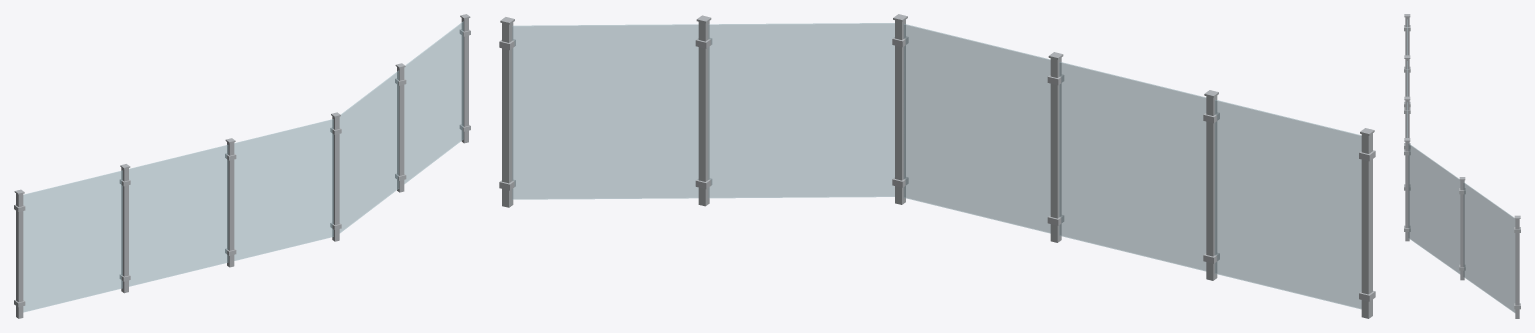
3 renders of one model, left to right at view 1: azimuth 30°, elevation 25°; view 2: azimuth 150°, elevation 25°; view 3: azimuth 270°, elevation 25°, orthographic. The views are drawn at different scales.
Visible parts, largest first — view 1: presentation (×11), climate.wind_screen; view 2: presentation (×11), climate.wind_screen; view 3: presentation (×8), climate.wind_screen (×2).
Part boxes in pixels (x1,y1,x2,y2): presentation (×11): (16,15,468,318); climate.wind_screen: (14,29,470,307); presentation (×11): (502,15,1372,318); climate.wind_screen: (499,36,1375,301); presentation (×8): (1405,14,1519,318); climate.wind_screen (×2): (1404,14,1520,309).
Bounding box in the file's own units: 6.59 × 1.59 × 1.52.
